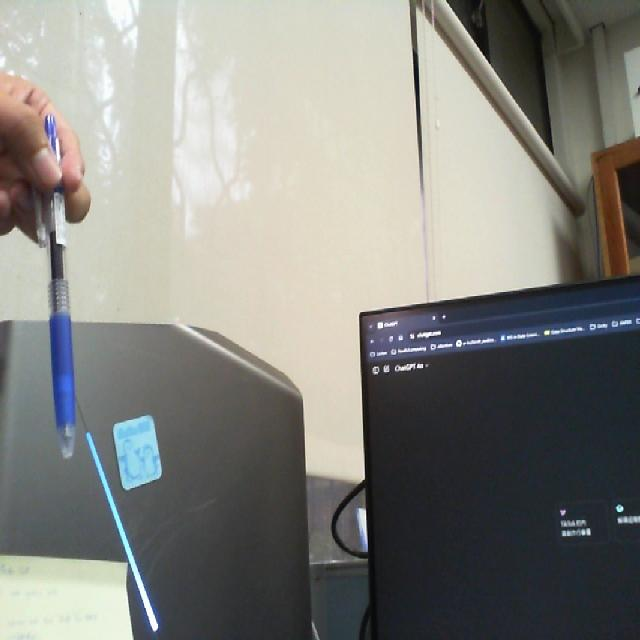Pen: (20, 100, 85, 469)
